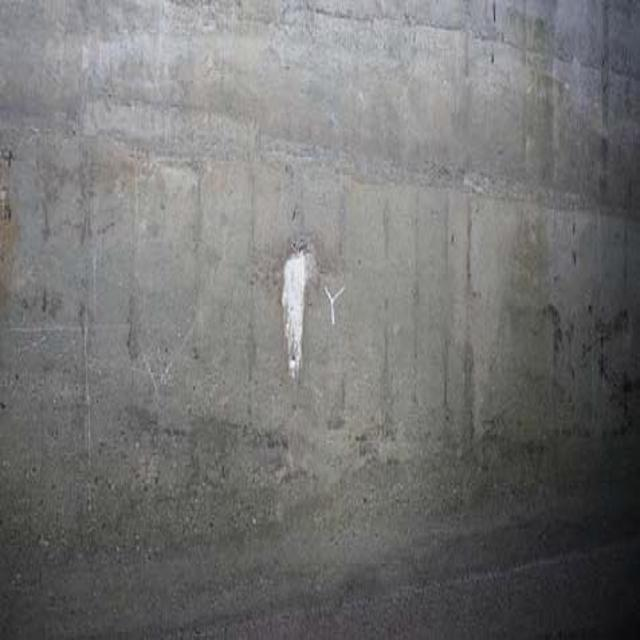freelime: (249, 223, 324, 390)
